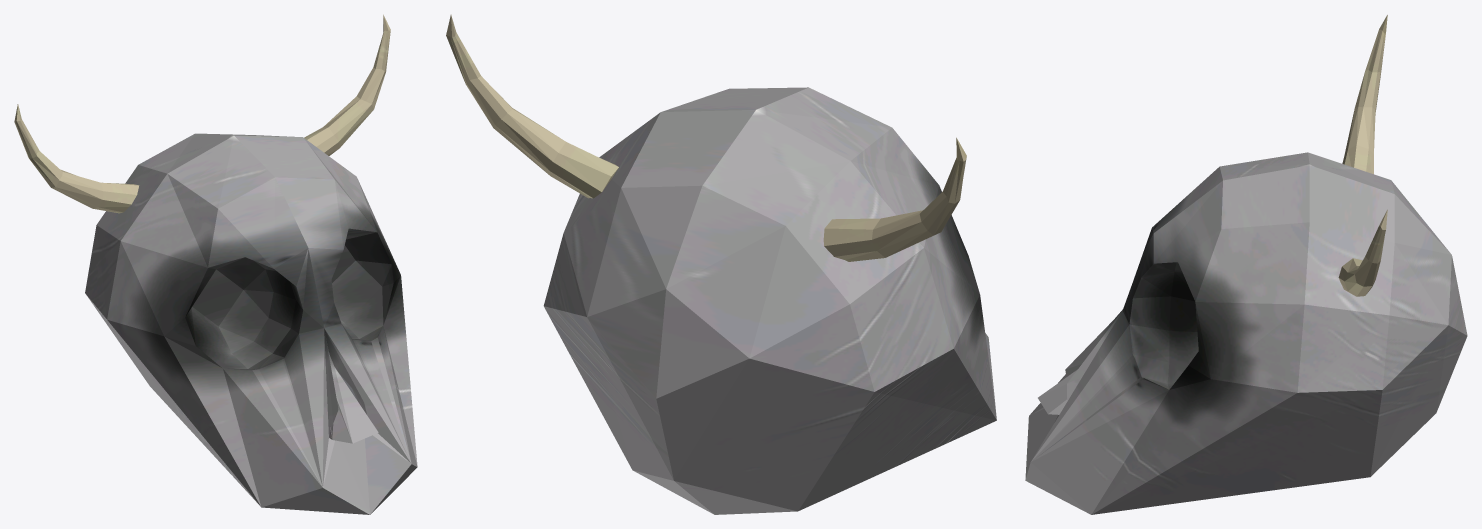
The model's file is Deadcow.glb.
3 renders of one model, left to right at view 1: azimuth 30°, elevation 25°; view 2: azimuth 150°, elevation 25°; view 3: azimuth 270°, elevation 25°, orthographic. The views are drawn at different scales.
Visible parts, largest first — view 1: Deadcow; view 2: Deadcow; view 3: Deadcow.
Part boxes in pixels (<box>): Deadcow: <box>14,14,417,514</box>; Deadcow: <box>446,14,996,514</box>; Deadcow: <box>1025,15,1467,514</box>.
Bounding box in the file's own units: 17.84 × 15.37 × 16.7.
Materials: 1 (1 with a texture image).
